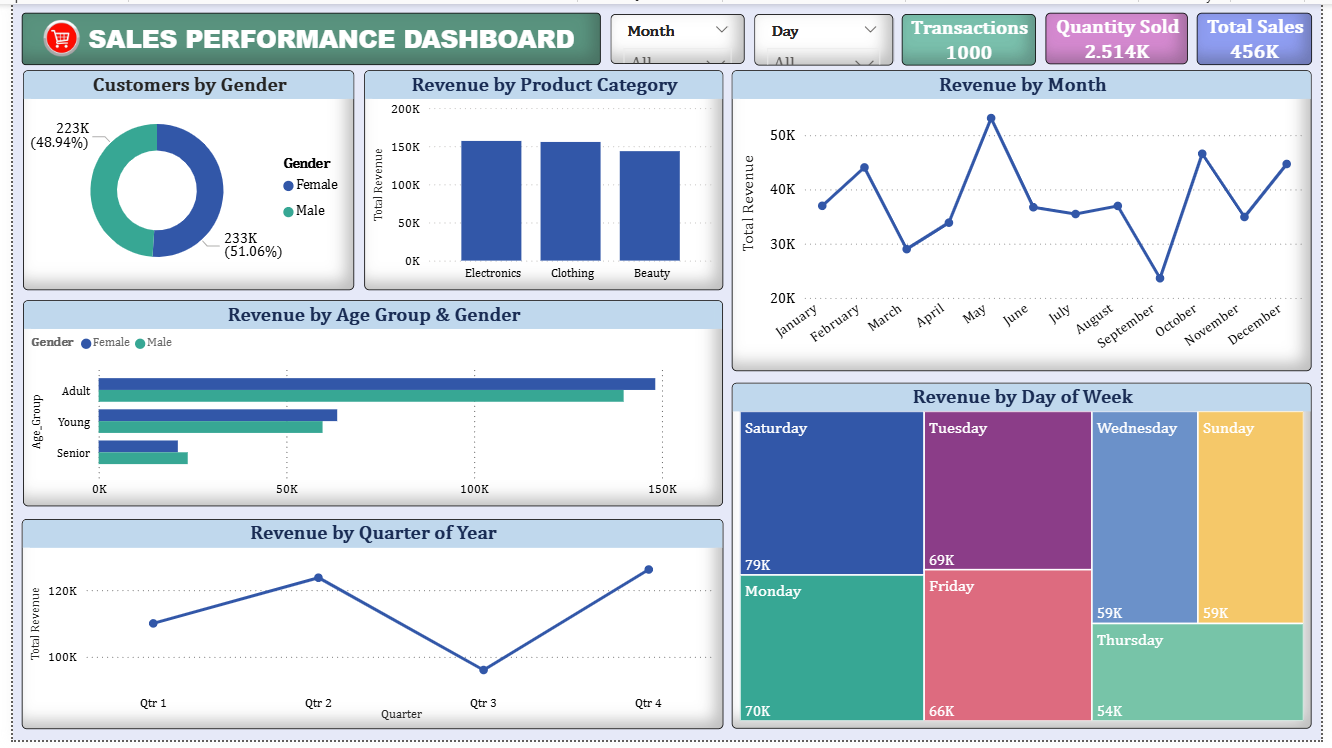

The page's visual inventory and layout, read from the dashboard file:
{"tool":"powerbi","page":{"name":"Dashboard","canvas":[1280,720],"ordinal":0},"visuals":[{"type":"textbox","box":[8.6,8.6,566.2,51.4],"z":0},{"type":"card","title":"Total Sales","fields":{"Values":["retail_sales_dataset.Revenue"]},"box":[1158,8.6,112.5,51.4],"z":1000},{"type":"card","title":"Quantity Sold","fields":{"Values":["retail_sales_dataset.Quantity_Sold"]},"box":[1010.1,8.6,139.4,50.1],"z":2000},{"type":"card","title":"Transactions","fields":{"Values":["retail_sales_dataset.Total_Transaction"]},"box":[869.4,9.8,130.8,50.1],"z":3000},{"type":"slicer","fields":{"Values":["retail_sales_dataset.Date.Variation.Date Hierarchy.Month"]},"box":[584.5,9.8,130.8,48.9],"z":4000},{"type":"slicer","fields":{"Values":["retail_sales_dataset.Day_of_Week"]},"box":[725.1,9.8,135.7,50.1],"z":5000},{"type":"image","box":[0,8.6,94.2,50.1],"z":6000},{"type":"clusteredColumnChart","title":"Revenue by Product Category","fields":{"Category":["retail_sales_dataset.Product_Category"],"Y":["Sum(retail_sales_dataset.Total_Amount)"]},"box":[343.6,64.8,351,215.2],"z":6001},{"type":"lineChart","title":"Revenue by Month","fields":{"Y":["Sum(retail_sales_dataset.Total_Amount)"],"Category":["retail_sales_dataset.Date.Variation.Date Hierarchy.Month"]},"box":[703.1,64.8,567.4,294.7],"z":6002},{"type":"donutChart","title":"Customers by Gender","fields":{"Category":["retail_sales_dataset.Gender"],"Y":["Sum(retail_sales_dataset.Total_Amount)"]},"box":[9.8,64.8,324.1,215.2],"z":6003},{"type":"lineChart","title":"Revenue by Quarter of Year","fields":{"Category":["retail_sales_dataset.Date.Variation.Date Hierarchy.Quarter"],"Y":["Sum(retail_sales_dataset.Total_Amount)"]},"box":[8.6,503.8,686,205.4],"z":6004},{"type":"treemap","title":"Revenue by Day of Week","fields":{"Values":["Sum(retail_sales_dataset.Total_Amount)"],"Group":["retail_sales_dataset.Day_of_Week"]},"box":[703.1,370.5,567.4,338.7],"z":6005},{"type":"clusteredBarChart","title":"Revenue by Age Group & Gender","fields":{"Category":["retail_sales_dataset.Age_Group"],"Series":["retail_sales_dataset.Gender"],"Y":["Sum(retail_sales_dataset.Total_Amount)"]},"box":[9.8,289.8,684.8,201.8],"z":6006}]}

Visuals, with their boxes in screenshot pixels (x1, y1, x2, y2), scaled from the page's 1280x720 canvas onto the 1332x748 screenshot:
textbox: [9,9,598,62]
"Total Sales" card: [1205,9,1322,62]
"Quantity Sold" card: [1051,9,1196,61]
"Transactions" card: [905,10,1041,62]
slicer - retail_sales_dataset.Date.Variation.Date Hierarchy.Month: [608,10,744,61]
slicer - retail_sales_dataset.Day_of_Week: [755,10,896,62]
image: [0,9,98,61]
"Revenue by Product Category" clusteredColumnChart: [358,67,723,291]
"Revenue by Month" lineChart: [732,67,1322,373]
"Customers by Gender" donutChart: [10,67,347,291]
"Revenue by Quarter of Year" lineChart: [9,523,723,737]
"Revenue by Day of Week" treemap: [732,385,1322,737]
"Revenue by Age Group & Gender" clusteredBarChart: [10,301,723,511]
